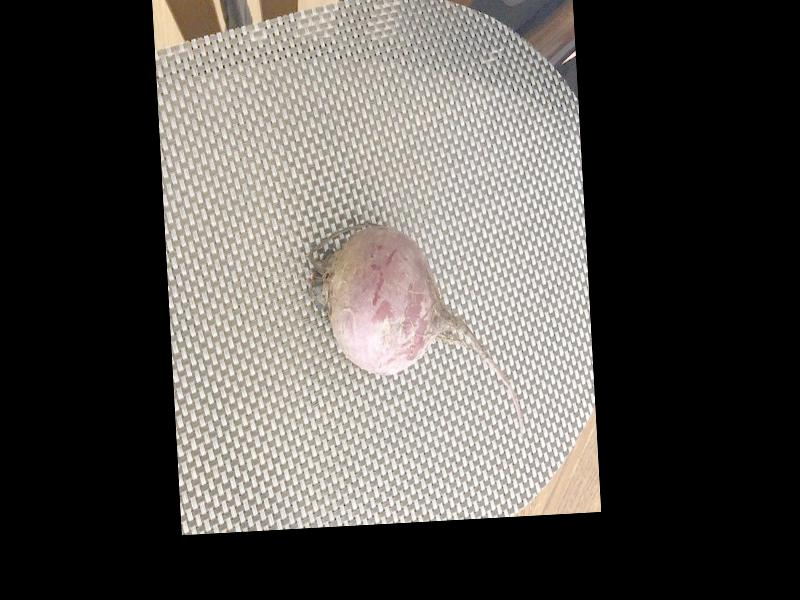Beet: (304, 216, 525, 445)
